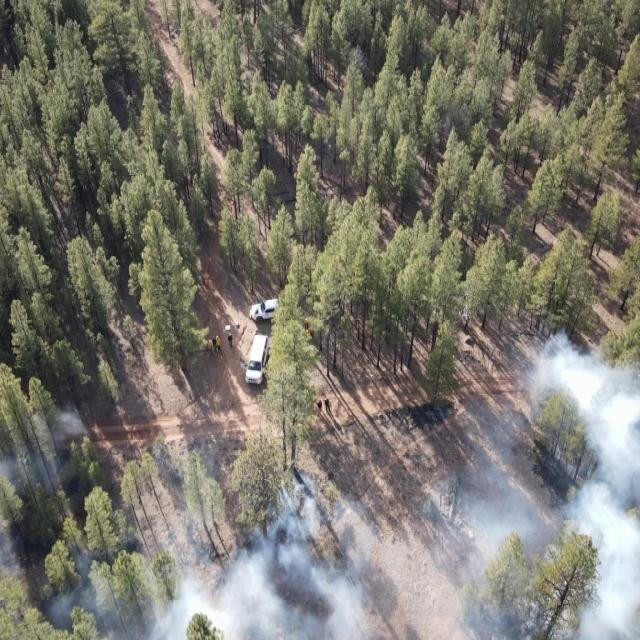smoke: (108, 472, 460, 640), (461, 332, 640, 640), (0, 399, 107, 640)
